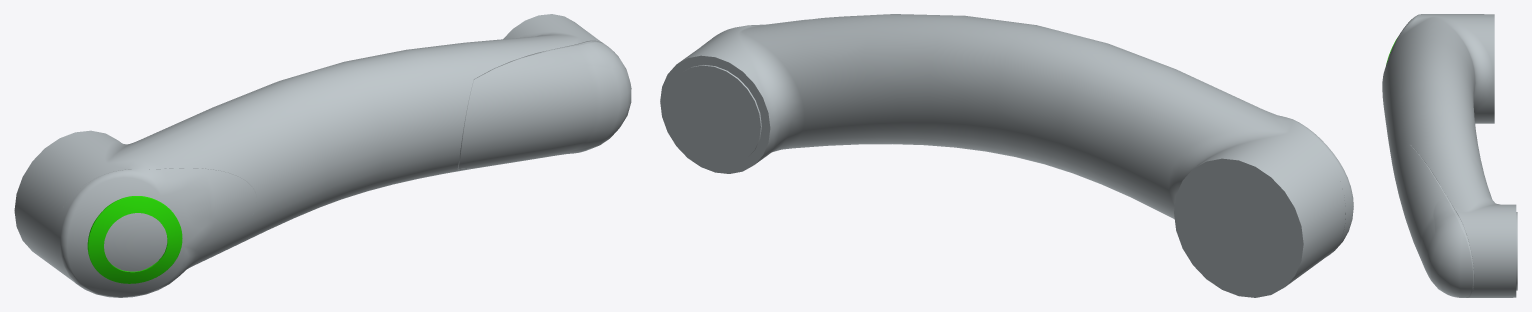
3 renders of one model, left to right at view 1: azimuth 30°, elevation 25°; view 2: azimuth 150°, elevation 25°; view 3: azimuth 270°, elevation 25°, orthographic. The views are drawn at different scales.
Visible parts, largest first — view 1: nhc12_link_2_l; view 2: nhc12_link_2_l; view 3: nhc12_link_2_l.
Part boxes in pixels (x1,y1,x2,y2): nhc12_link_2_l: (14,14,631,297); nhc12_link_2_l: (660,14,1353,297); nhc12_link_2_l: (1382,14,1517,297).
Bounding box in the file's own units: 0.7416 × 0.1976 × 0.1885.
